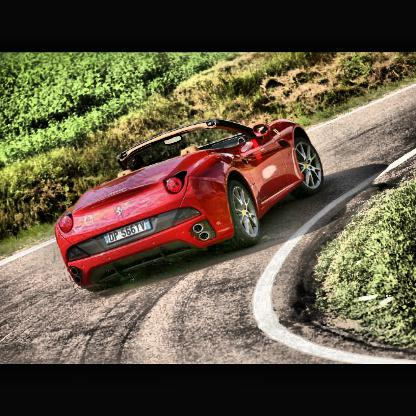Ferrari California Convertible 2012: (55, 120, 326, 294)
